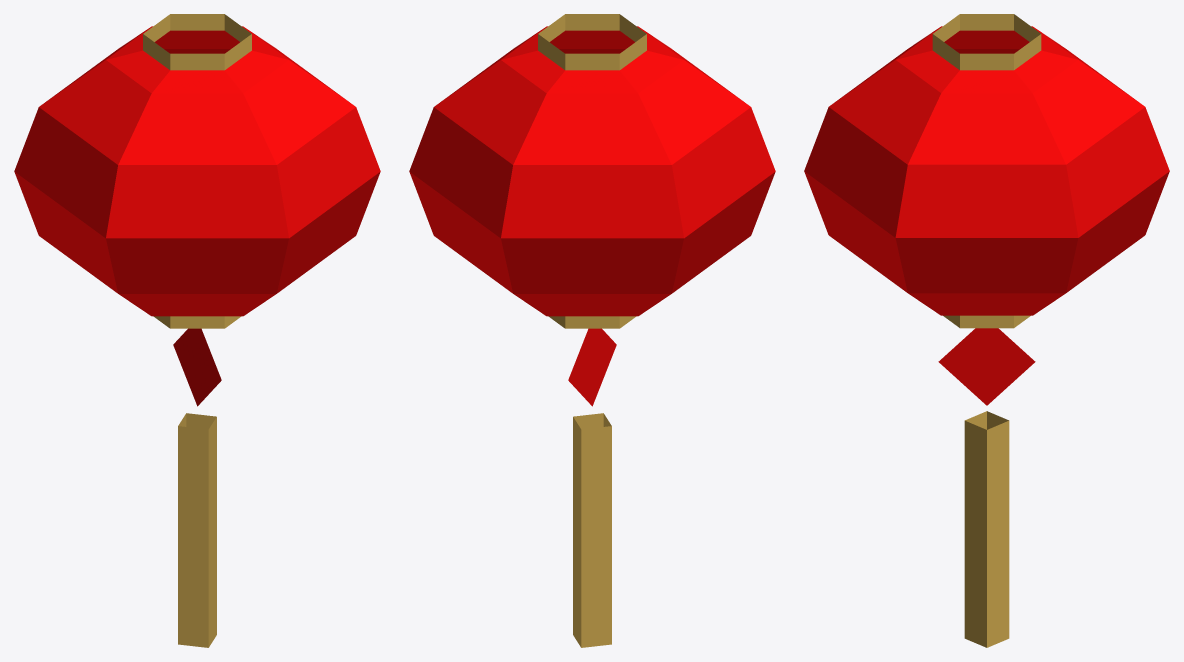
The model's file is round-lantern.fbx.
3 views of the same model, side by side, from view 1: azimuth 30°, elevation 25°; view 2: azimuth 150°, elevation 25°; view 3: azimuth 270°, elevation 25° (orthographic).
Parts seen in each view (by area): view 1: RoundLantern; view 2: RoundLantern; view 3: RoundLantern.
Boxes of the visible parts, box(x1,y1,x2,y2) form: RoundLantern: box(14, 14, 380, 647); RoundLantern: box(409, 14, 775, 647); RoundLantern: box(804, 14, 1169, 647).
Bounding box in the file's own units: 173 × 365 × 200.
